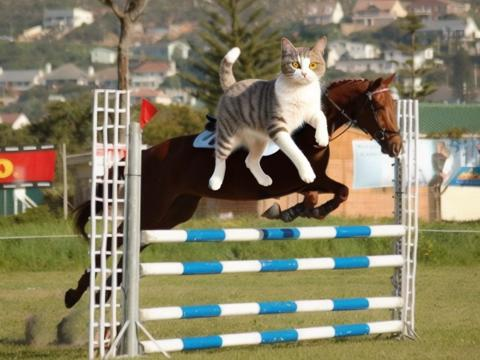cat: (210, 33, 328, 191)
horse: (65, 73, 403, 310)
